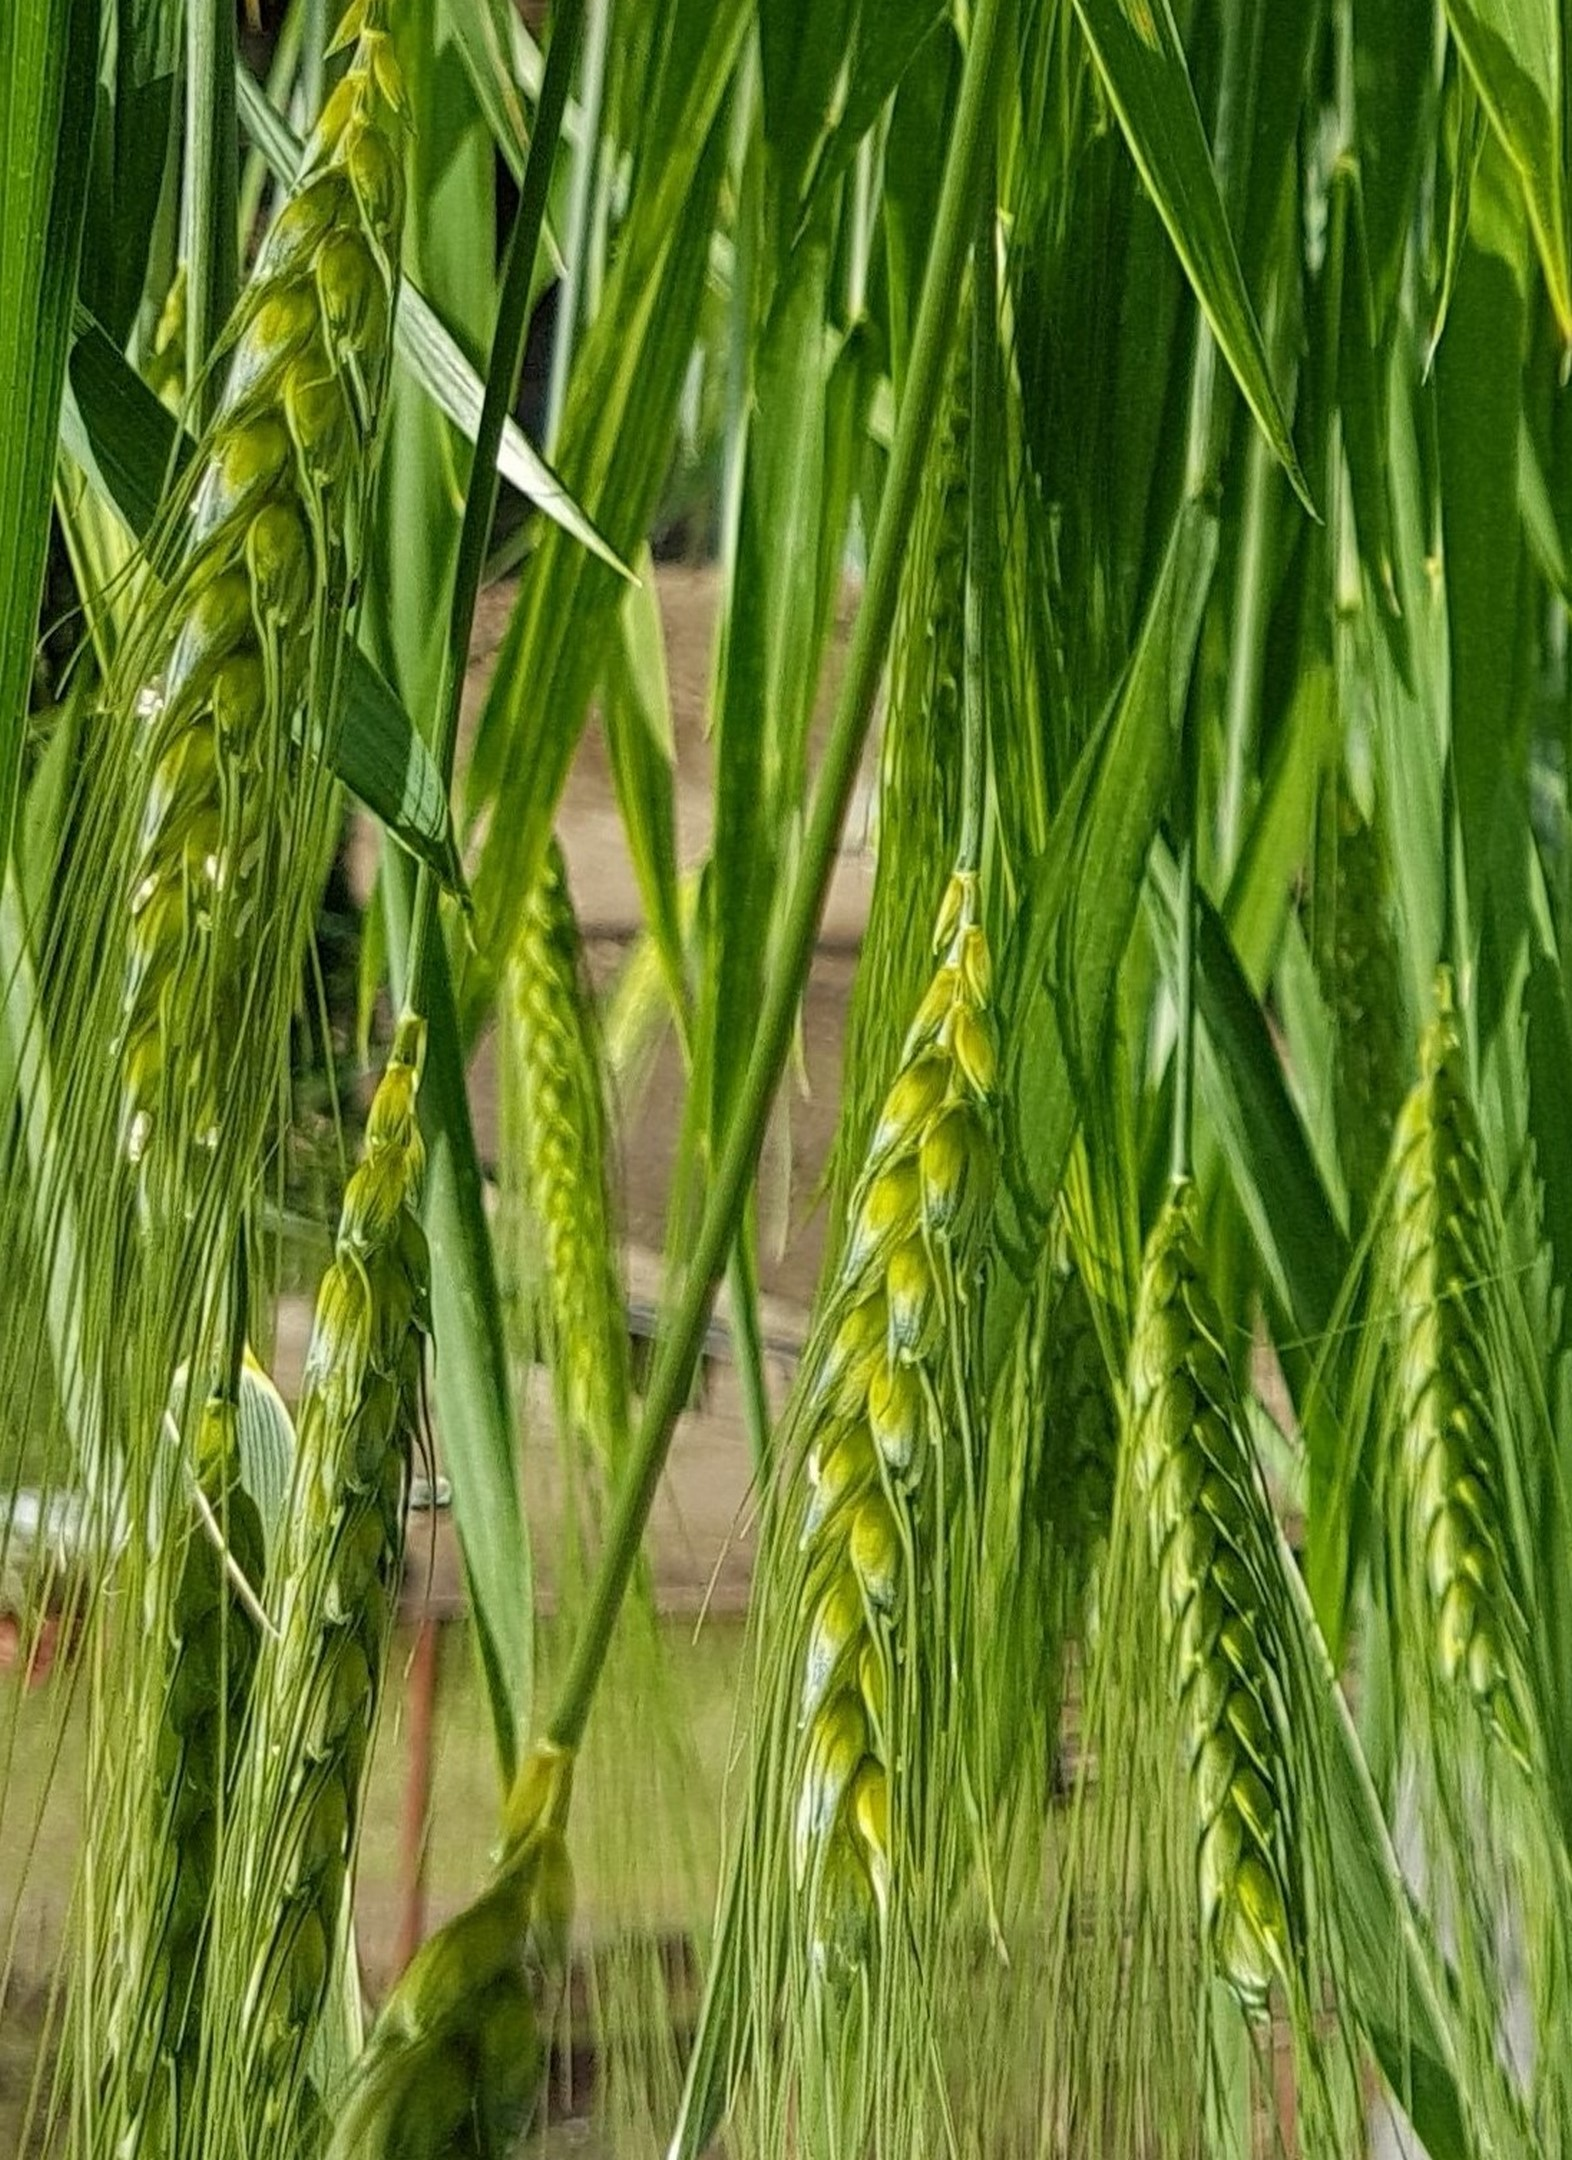Healthy Wheat: (59, 47, 443, 1184), (768, 882, 1033, 1965), (1111, 1184, 1357, 2019), (1366, 1051, 1572, 1729)
